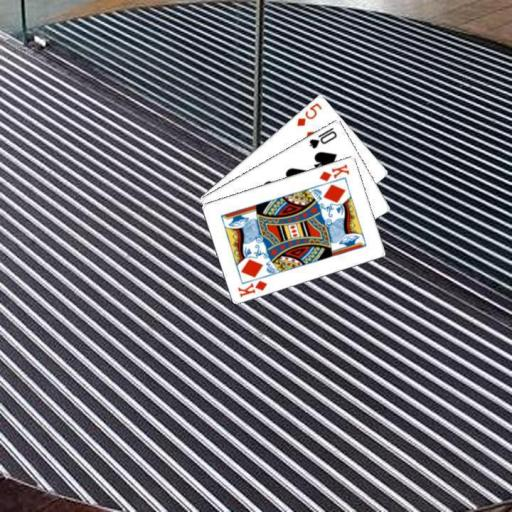card-corner: (306, 124, 338, 150), (294, 100, 324, 127), (316, 160, 350, 182), (234, 276, 268, 298)
